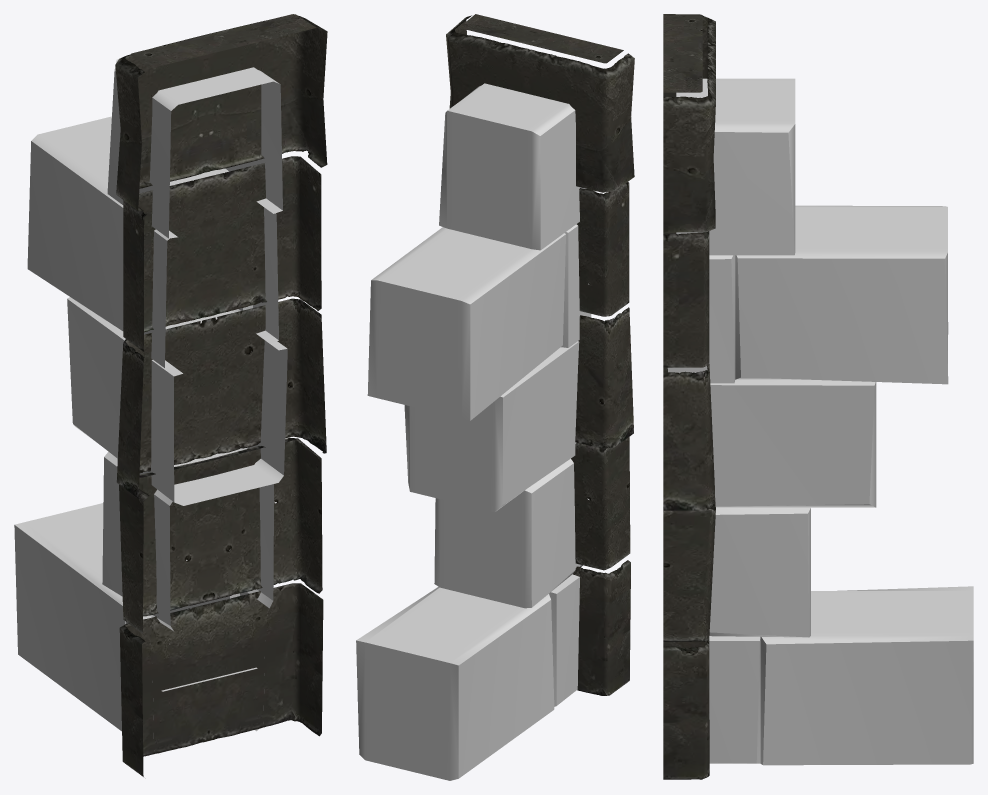
3 renders of one model, left to right at view 1: azimuth 30°, elevation 25°; view 2: azimuth 150°, elevation 25°; view 3: azimuth 270°, elevation 25°, orthographic. The views are drawn at different scales.
Visible parts, largest first — view 1: SM_Greathall_Wall_8x10_Broken_02_LOD0; view 2: SM_Greathall_Wall_8x10_Broken_02_LOD0; view 3: SM_Greathall_Wall_8x10_Broken_02_LOD0.
Boxes of the visible parts, <box> form: SM_Greathall_Wall_8x10_Broken_02_LOD0: <box>14,14,327,776</box>; SM_Greathall_Wall_8x10_Broken_02_LOD0: <box>356,14,634,780</box>; SM_Greathall_Wall_8x10_Broken_02_LOD0: <box>663,14,973,779</box>.
Size of the model in its own units: 2 by 7.14 by 2.92.
2 materials, 1 textured.
